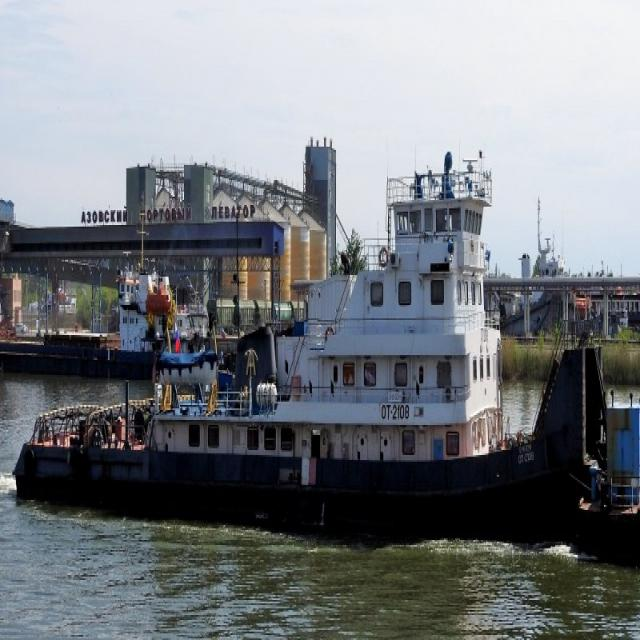tugboat: (11, 134, 610, 561)
